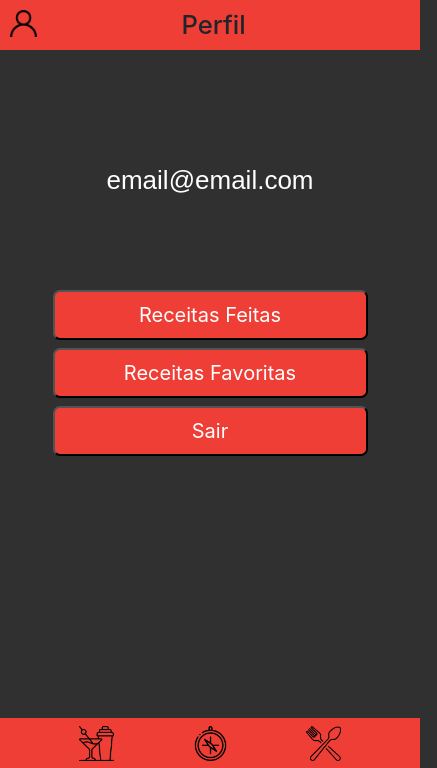
Test case: 1- Verifica se o email correto aparece na tela › 1.3- verifica se o botão de Receitas feitas funciona
Click the button with test id "profile-done-btn". click: (210, 315)
box: x1=52 y1=290 x2=368 y2=340
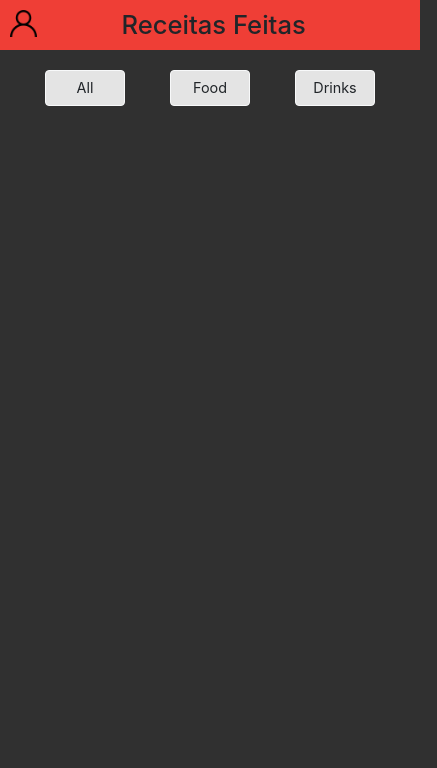
Expected: the heading "Receitas Feitas" is shown, x1=121 y1=10 x2=306 y2=41
